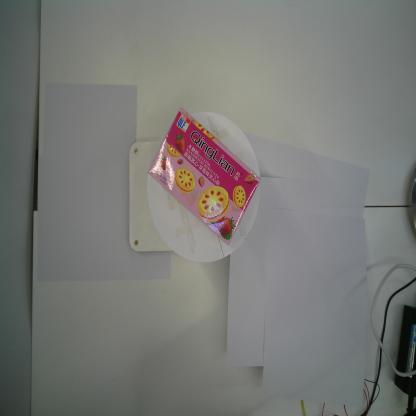Dessert: (147, 105, 262, 247)
